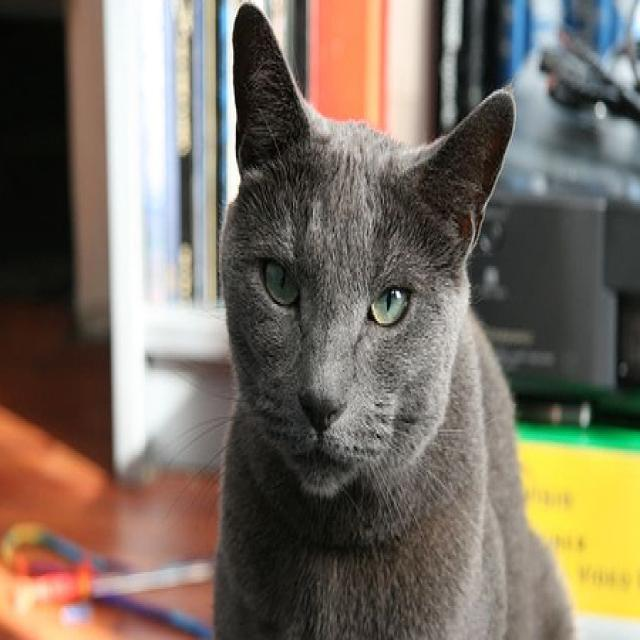Russian Blue: (203, 0, 583, 640)
